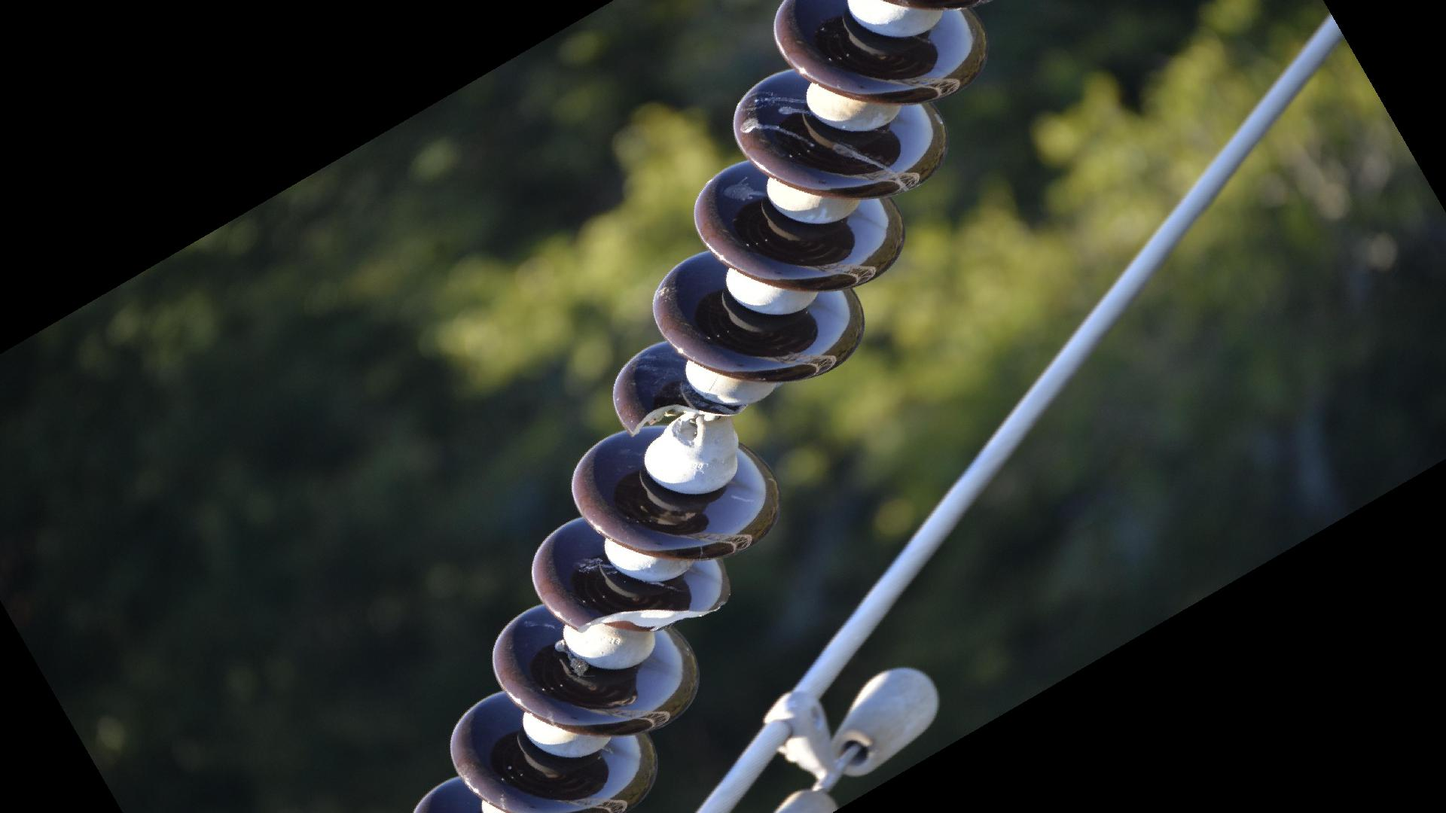insulator: (403, 1, 994, 813)
insulator_breakage: (568, 592, 735, 638), (624, 397, 751, 442)
